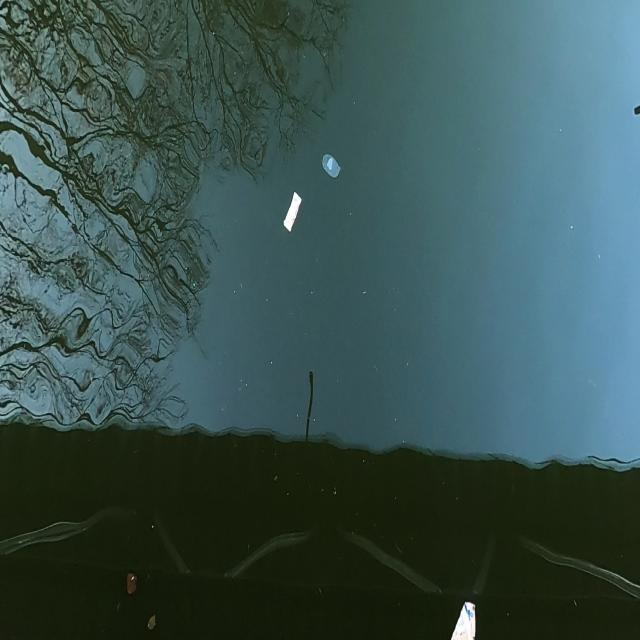Non plastique: (278, 190, 304, 236)
Sac plastique: (320, 151, 343, 182)
